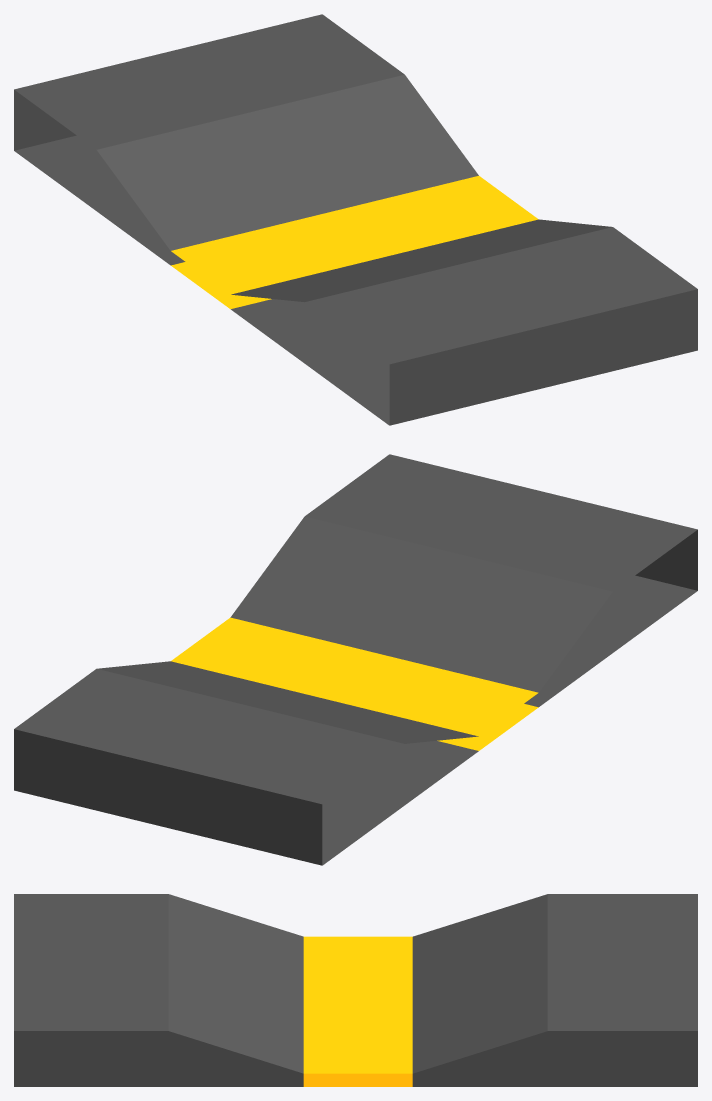
The model's file is Spline_Slip_Trapezoid_1.fbx.
3 views of the same model, one above another, from view 1: azimuth 30°, elevation 25°; view 2: azimuth 150°, elevation 25°; view 3: azimuth 270°, elevation 25° (orthographic). The views are drawn at different scales.
Visible parts, largest first — view 1: Spline_Slip_Trapezoid 1; view 2: Spline_Slip_Trapezoid 1; view 3: Spline_Slip_Trapezoid 1.
Boxes of the visible parts, x1,y1,x2,y2 form: Spline_Slip_Trapezoid 1: (14, 14, 697, 425); Spline_Slip_Trapezoid 1: (14, 454, 697, 865); Spline_Slip_Trapezoid 1: (14, 894, 697, 1086).
Size of the model in its own units: 1000 by 190 by 2109.
